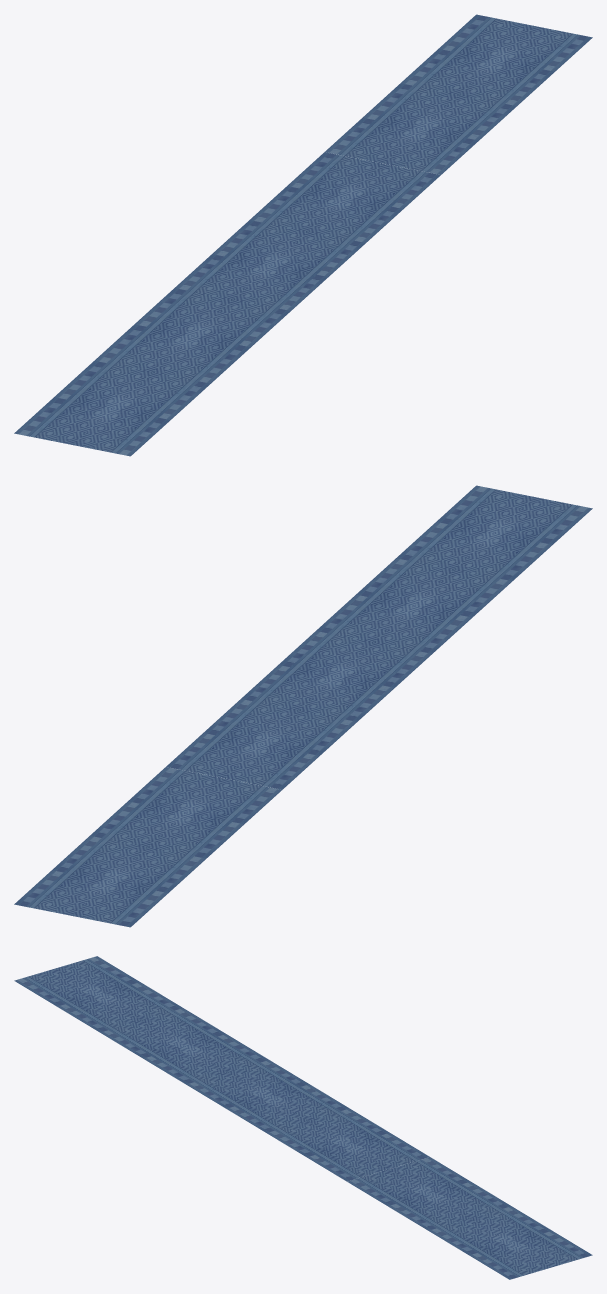
File: Area_08_6.fbx
3 views of the same model, one above another, from view 1: azimuth 30°, elevation 25°; view 2: azimuth 210°, elevation 25°; view 3: azimuth 270°, elevation 25° (orthographic). The views are drawn at different scales.
Visible parts, largest first — view 1: Area_08_6; view 2: Area_08_6; view 3: Area_08_6.
Part boxes in pixels (x1,y1,x2,y2): Area_08_6: (14, 14, 592, 456); Area_08_6: (14, 485, 592, 927); Area_08_6: (14, 956, 592, 1279).
Bounding box in the file's own units: 4537 × 0.000151 × 3428.
1 material, 1 textured.
